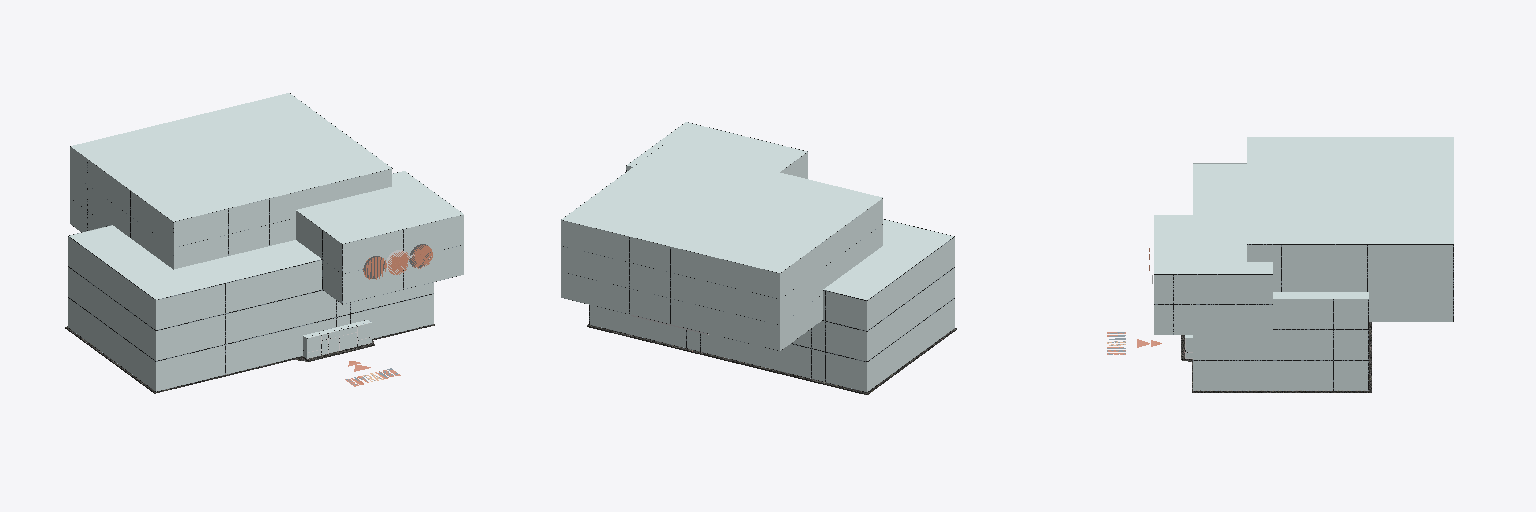
3 renders of one model, left to right at view 1: azimuth 30°, elevation 25°; view 2: azimuth 150°, elevation 25°; view 3: azimuth 270°, elevation 25°, orthographic.
Parts seen in each view (by area): view 1: Mesh384 Group47 Group45 Model, Mesh136 Group18 Group13 Model, Mesh128 Group14 Group13 Model, Mesh390 Group50 Group45 Model, Mesh132 Group16 Group13 Model, Mesh120 Group10 Group3 Model, Mesh118 Group9 Group3 Model, Mesh386 Group48 Group45 Model, Mesh124 Group12 Group3 Model, Mesh693 Group94 door001_1 Model, Mesh1 Group1 Model; view 2: Mesh384 Group47 Group45 Model, Mesh382 Group46 Group45 Model, Mesh130 Group15 Group13 Model, Mesh128 Group14 Group13 Model, Mesh386 Group48 Group45 Model, Mesh132 Group16 Group13 Model, Mesh118 Group9 Group3 Model, Mesh1 Group1 Model; view 3: Mesh384 Group47 Group45 Model, Mesh134 Group17 Group13 Model, Mesh388 Group49 Group45 Model, Mesh116 Group8 Group3 Model, Mesh118 Group9 Group3 Model, Mesh132 Group16 Group13 Model, Mesh1 Group1 Model.
Boxes of the visible parts, x1=… form: Mesh384 Group47 Group45 Model: x1=71, y1=93, x2=391, y2=221; Mesh136 Group18 Group13 Model: x1=156, y1=260, x2=433, y2=391; Mesh128 Group14 Group13 Model: x1=68, y1=237, x2=155, y2=390; Mesh390 Group50 Group45 Model: x1=174, y1=169, x2=391, y2=268; Mesh132 Group16 Group13 Model: x1=69, y1=225, x2=320, y2=299; Mesh120 Group10 Group3 Model: x1=343, y1=215, x2=463, y2=303; Mesh118 Group9 Group3 Model: x1=296, y1=171, x2=463, y2=243; Mesh386 Group48 Group45 Model: x1=70, y1=147, x2=173, y2=269; Mesh124 Group12 Group3 Model: x1=296, y1=211, x2=341, y2=303; Mesh693 Group94 door001_1 Model: x1=307, y1=323, x2=371, y2=358; Mesh1 Group1 Model: x1=65, y1=324, x2=434, y2=393; Mesh384 Group47 Group45 Model: x1=562, y1=144, x2=882, y2=272; Mesh382 Group46 Group45 Model: x1=561, y1=220, x2=779, y2=350; Mesh130 Group15 Group13 Model: x1=590, y1=290, x2=866, y2=391; Mesh128 Group14 Group13 Model: x1=867, y1=237, x2=954, y2=391; Mesh386 Group48 Group45 Model: x1=780, y1=199, x2=882, y2=350; Mesh132 Group16 Group13 Model: x1=823, y1=219, x2=953, y2=299; Mesh118 Group9 Group3 Model: x1=627, y1=122, x2=806, y2=171; Mesh1 Group1 Model: x1=587, y1=324, x2=956, y2=394; Mesh384 Group47 Group45 Model: x1=1247, y1=137, x2=1453, y2=243; Mesh134 Group17 Group13 Model: x1=1193, y1=299, x2=1367, y2=389; Mesh388 Group49 Group45 Model: x1=1247, y1=245, x2=1452, y2=321; Mesh116 Group8 Group3 Model: x1=1154, y1=275, x2=1272, y2=334; Mesh118 Group9 Group3 Model: x1=1154, y1=215, x2=1272, y2=273; Mesh132 Group16 Group13 Model: x1=1193, y1=164, x2=1368, y2=298; Mesh1 Group1 Model: x1=1181, y1=322, x2=1371, y2=392.
Bounding box in the file's own units: 70.42 × 32.61 × 72.91.
Materials: 16 (4 with a texture image).